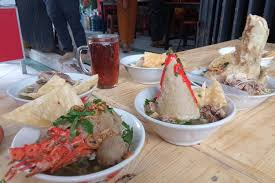bakso: (43, 98, 133, 173), (142, 76, 228, 133)
